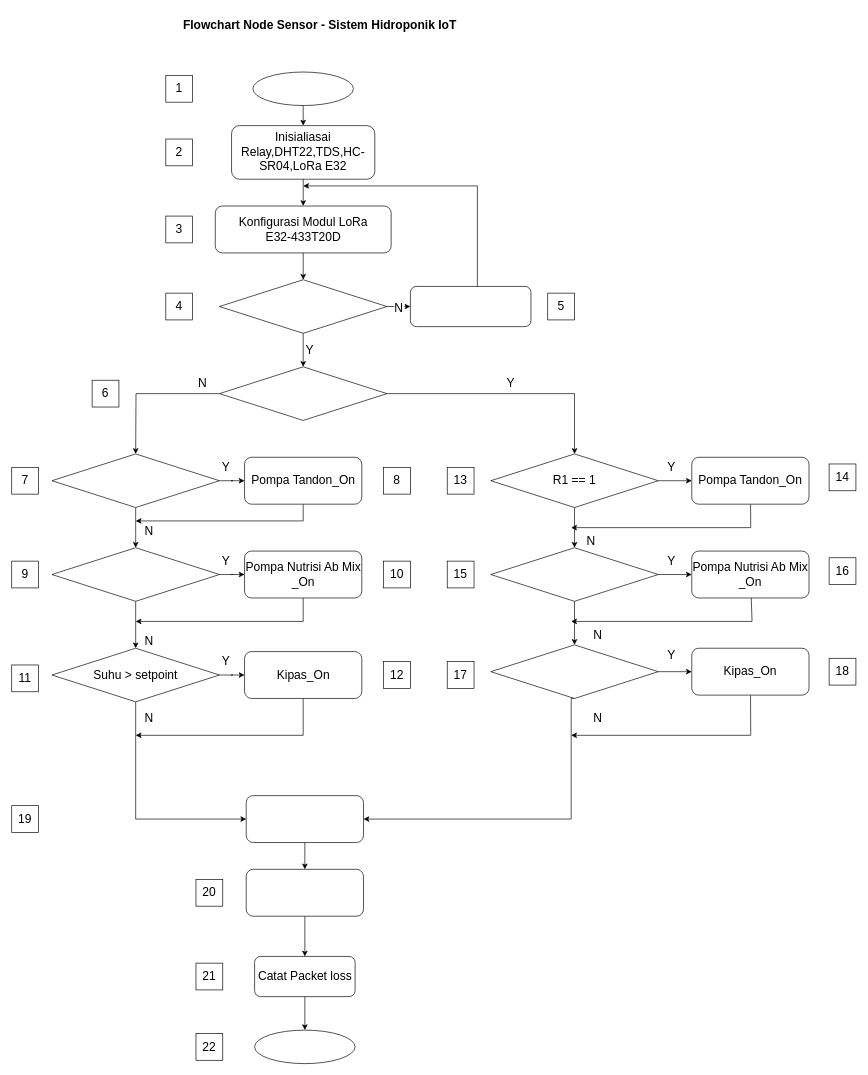
The diagram is 868 pixels wide and 1075 high, and some of its shapes have lost their labels. Each missing label, with the centre of its shape:
"Jarak > Setpoint" belongs at (135,480).
"Kirim Data Ke LoRa Gateway" belongs at (304,892).
"Kirim Data Ke LoRa Node" belongs at (304,819).
"LoRa Berhasil Dikonfigurasi?" belongs at (303,306).
"Manual Mode == 1" belongs at (303,393).
"MULAI" belongs at (302,88).
"Ppm < setpoint" belongs at (135,574).
"R2 == 1" belongs at (574,574).
"R3 == 1" belongs at (574,671).
"Selesai" belongs at (304,1046).
"Tampilkan Error" belongs at (470,306).
